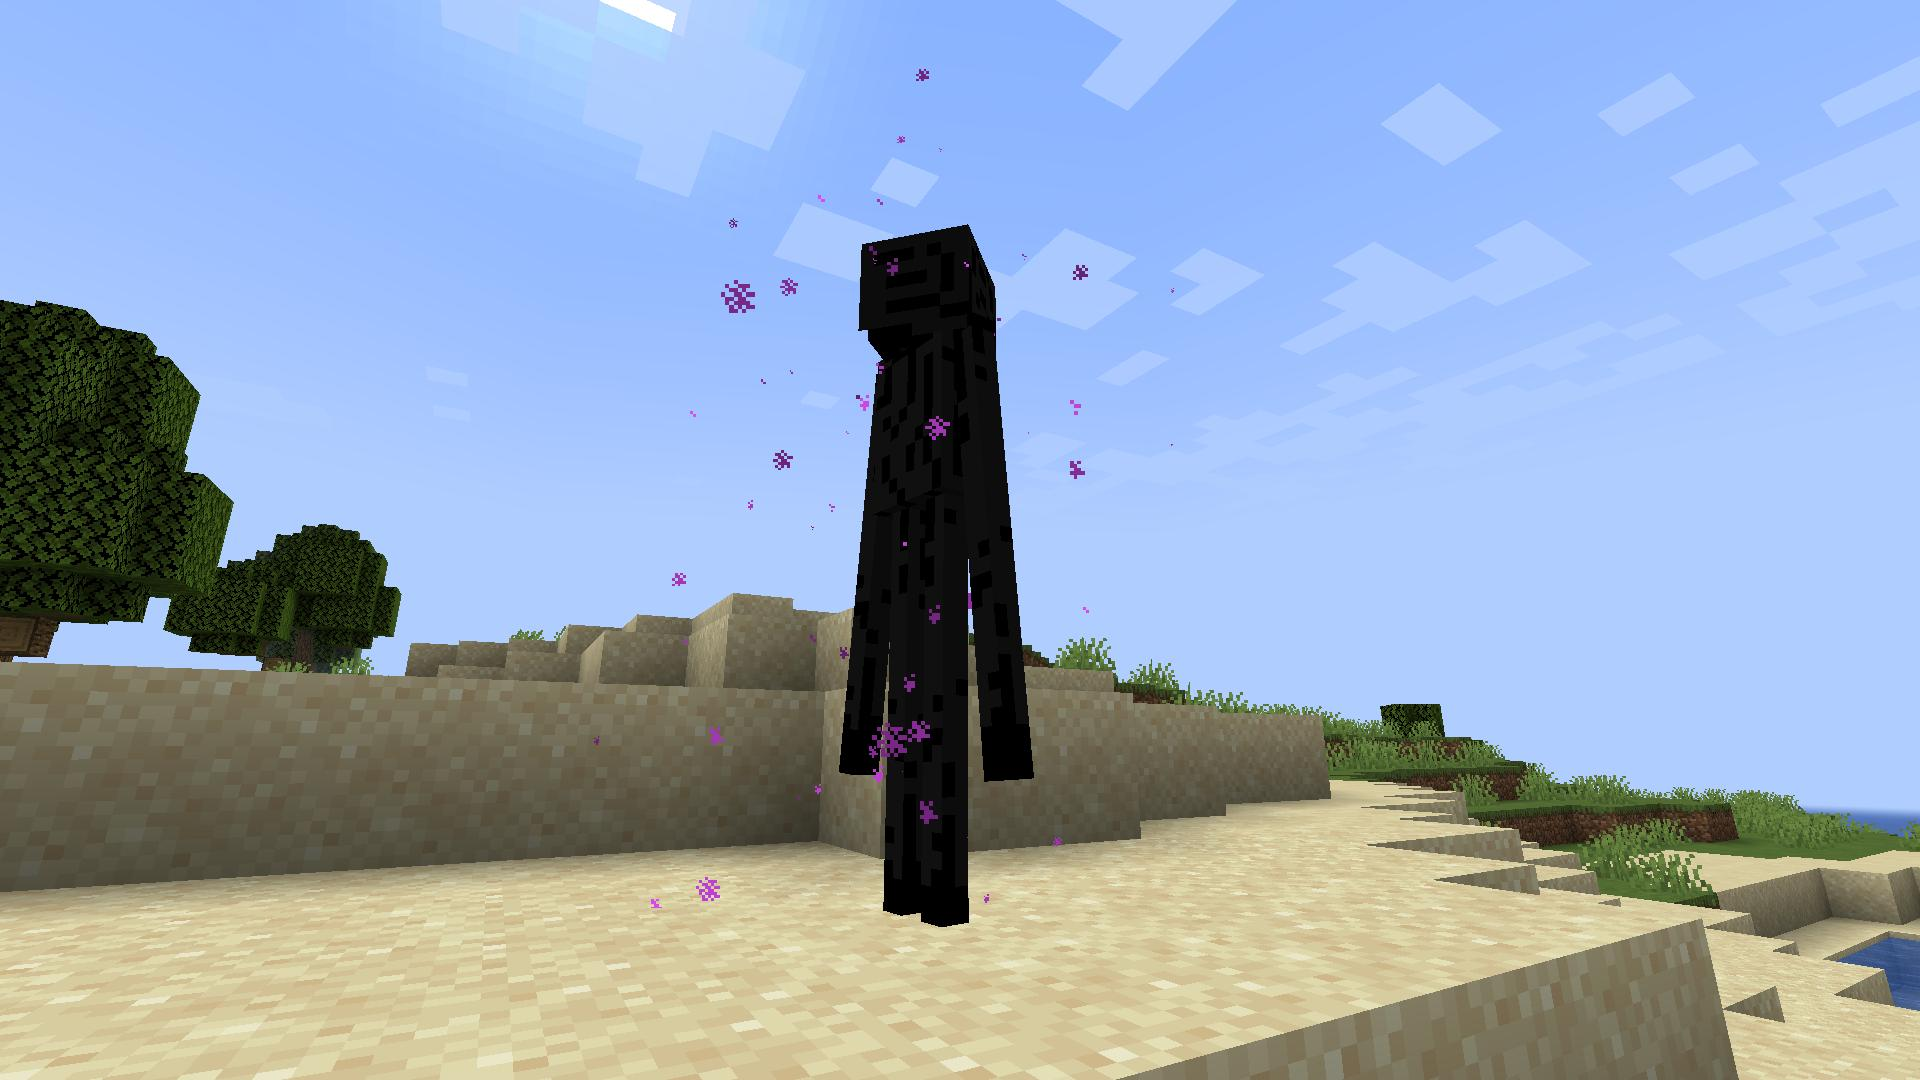enderman: (828, 208, 1048, 960)
